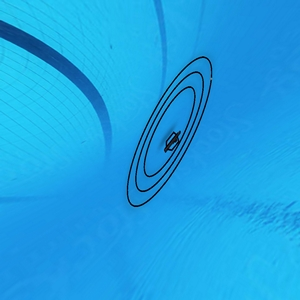circle: (116, 48, 224, 216)
submarine: (163, 130, 183, 156)
